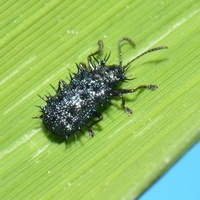insect: (36, 38, 167, 139)
